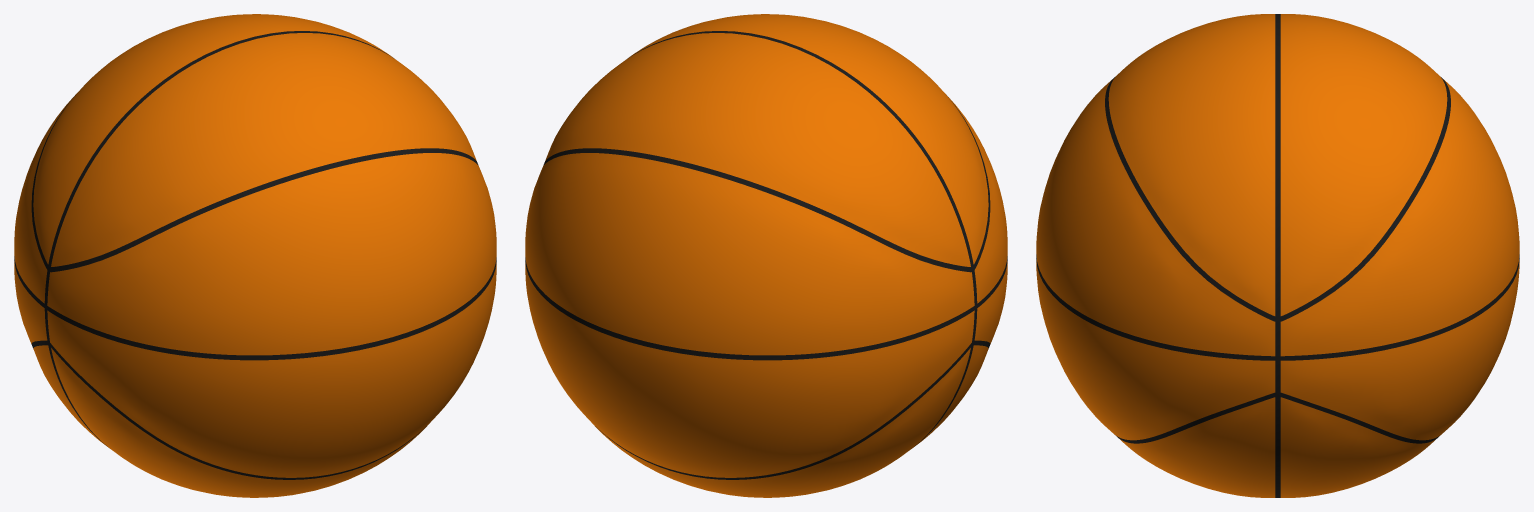
File: basketball.glb
The picture shows the model from 3 angles, left to right: view 1: azimuth 30°, elevation 25°; view 2: azimuth 150°, elevation 25°; view 3: azimuth 270°, elevation 25°; orthographic projection.
Visible parts, largest first — view 1: Cube; view 2: Cube; view 3: Cube.
Part boxes in pixels (x1,y1,x2,y2): Cube: [14, 14, 496, 497]; Cube: [525, 14, 1007, 497]; Cube: [1036, 14, 1519, 497].
Size of the model in its own units: 2.53 by 2.52 by 2.52.
